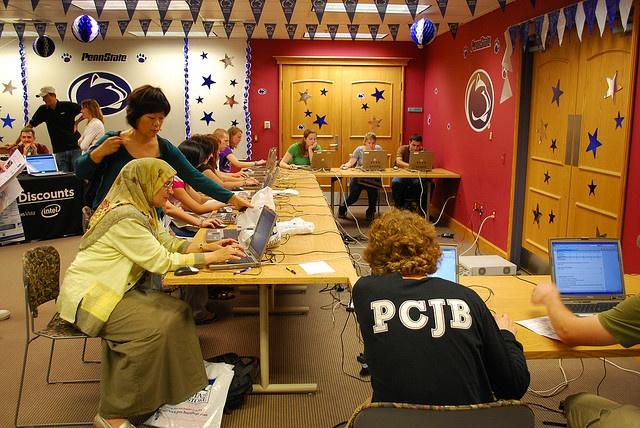Meja: (160, 165, 357, 289), (313, 166, 460, 188)
